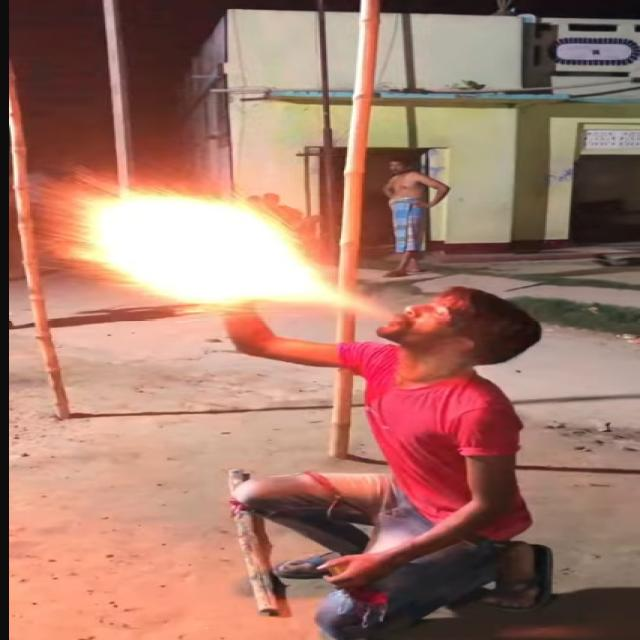fire: (77, 193, 352, 306)
